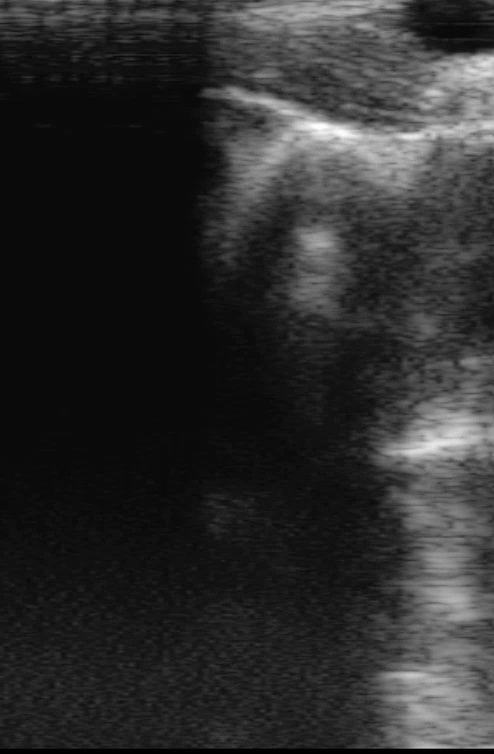veins_detect: (387, 3, 494, 65)
veins_seg: (407, 1, 493, 55)
